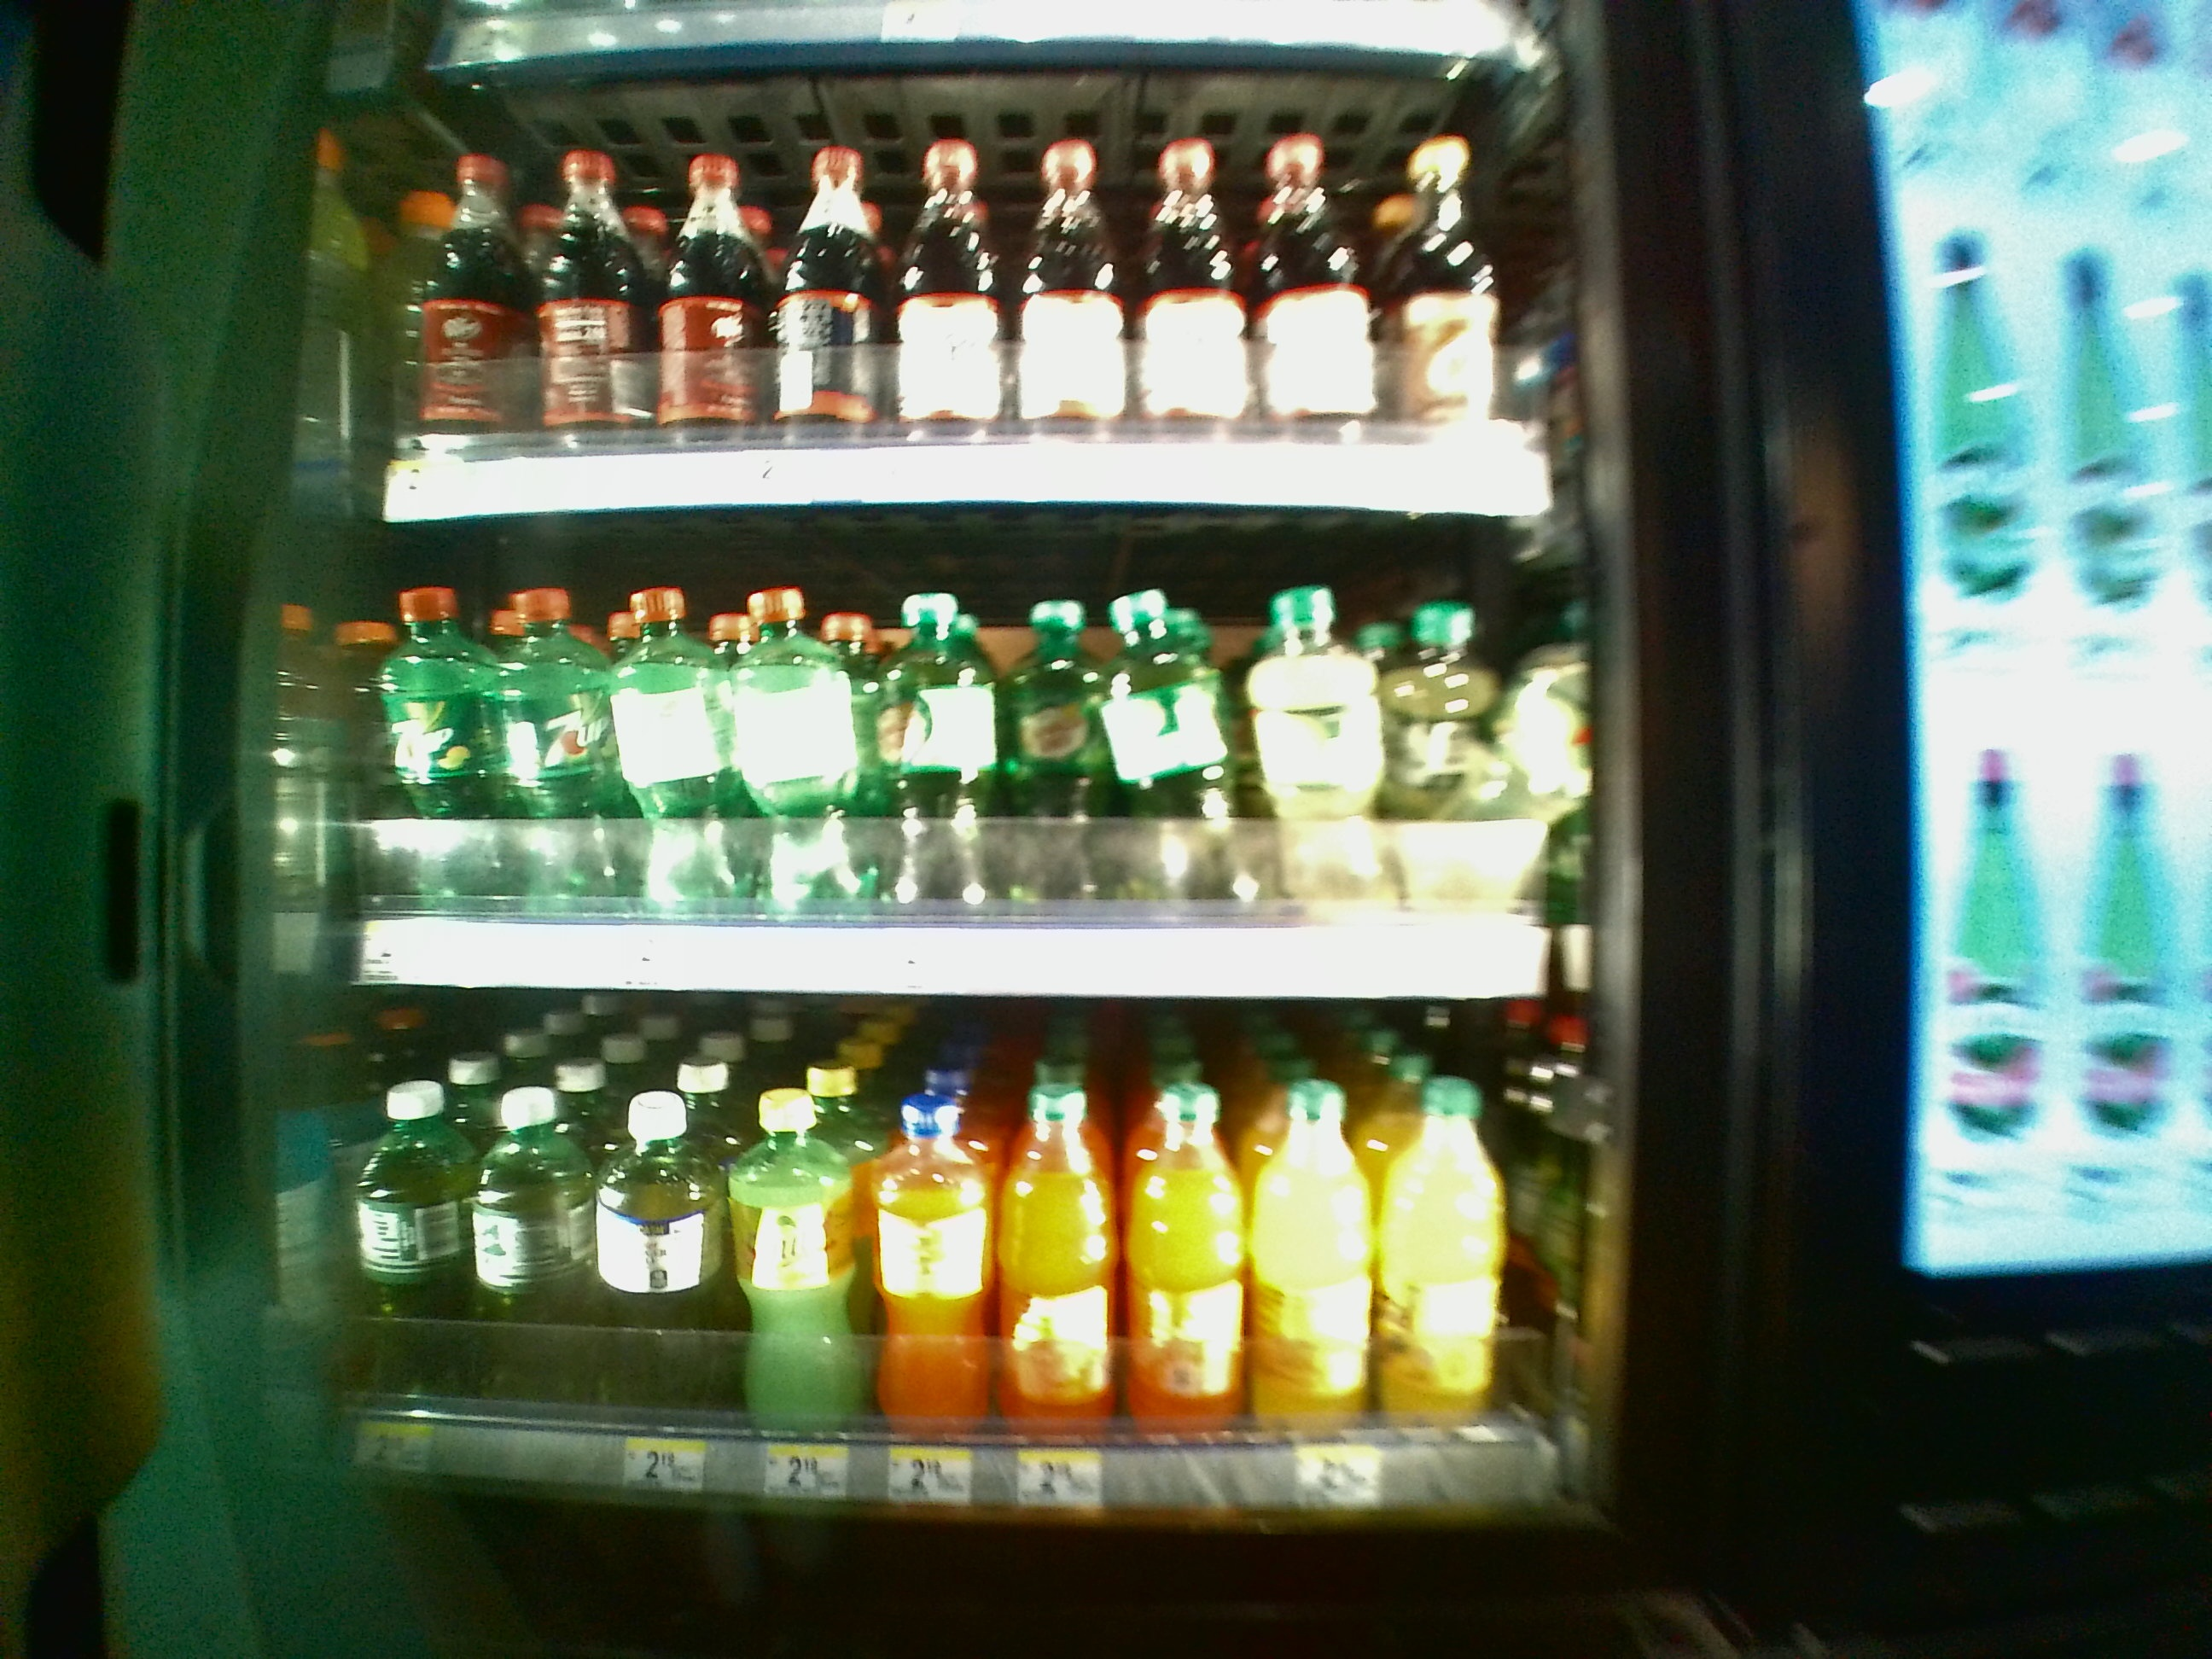shelf: (320, 1002, 1616, 1521), (320, 518, 1618, 1002)
